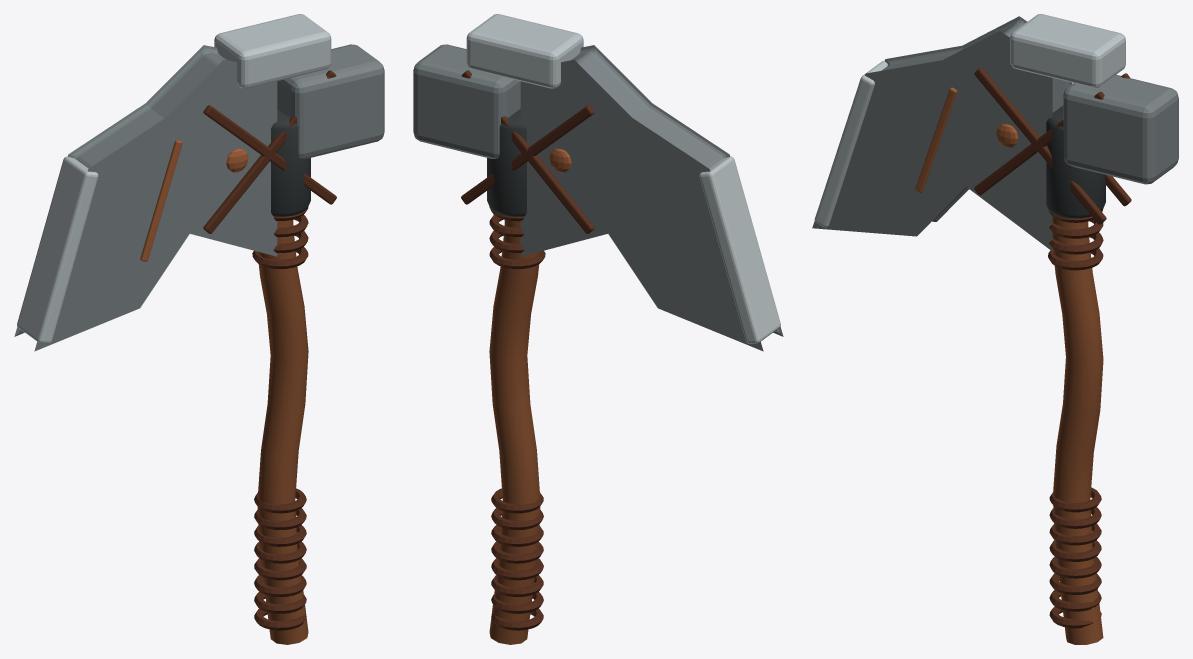
The model's file is SM_Bram_WoodcutterAxe.fbx.
The picture shows the model from 3 angles, left to right: view 1: azimuth 30°, elevation 25°; view 2: azimuth 150°, elevation 25°; view 3: azimuth 330°, elevation 25°; orthographic projection.
Parts seen in each view (by area): view 1: SM_Bram_WoodcutterAxe; view 2: SM_Bram_WoodcutterAxe; view 3: SM_Bram_WoodcutterAxe.
Part boxes in pixels (left/top/right/bottom): SM_Bram_WoodcutterAxe: left=14, top=14, right=384, bottom=644; SM_Bram_WoodcutterAxe: left=413, top=14, right=783, bottom=644; SM_Bram_WoodcutterAxe: left=812, top=14, right=1178, bottom=644.
Bounding box in the file's own units: 0.6835 × 0.11 × 1.14.
